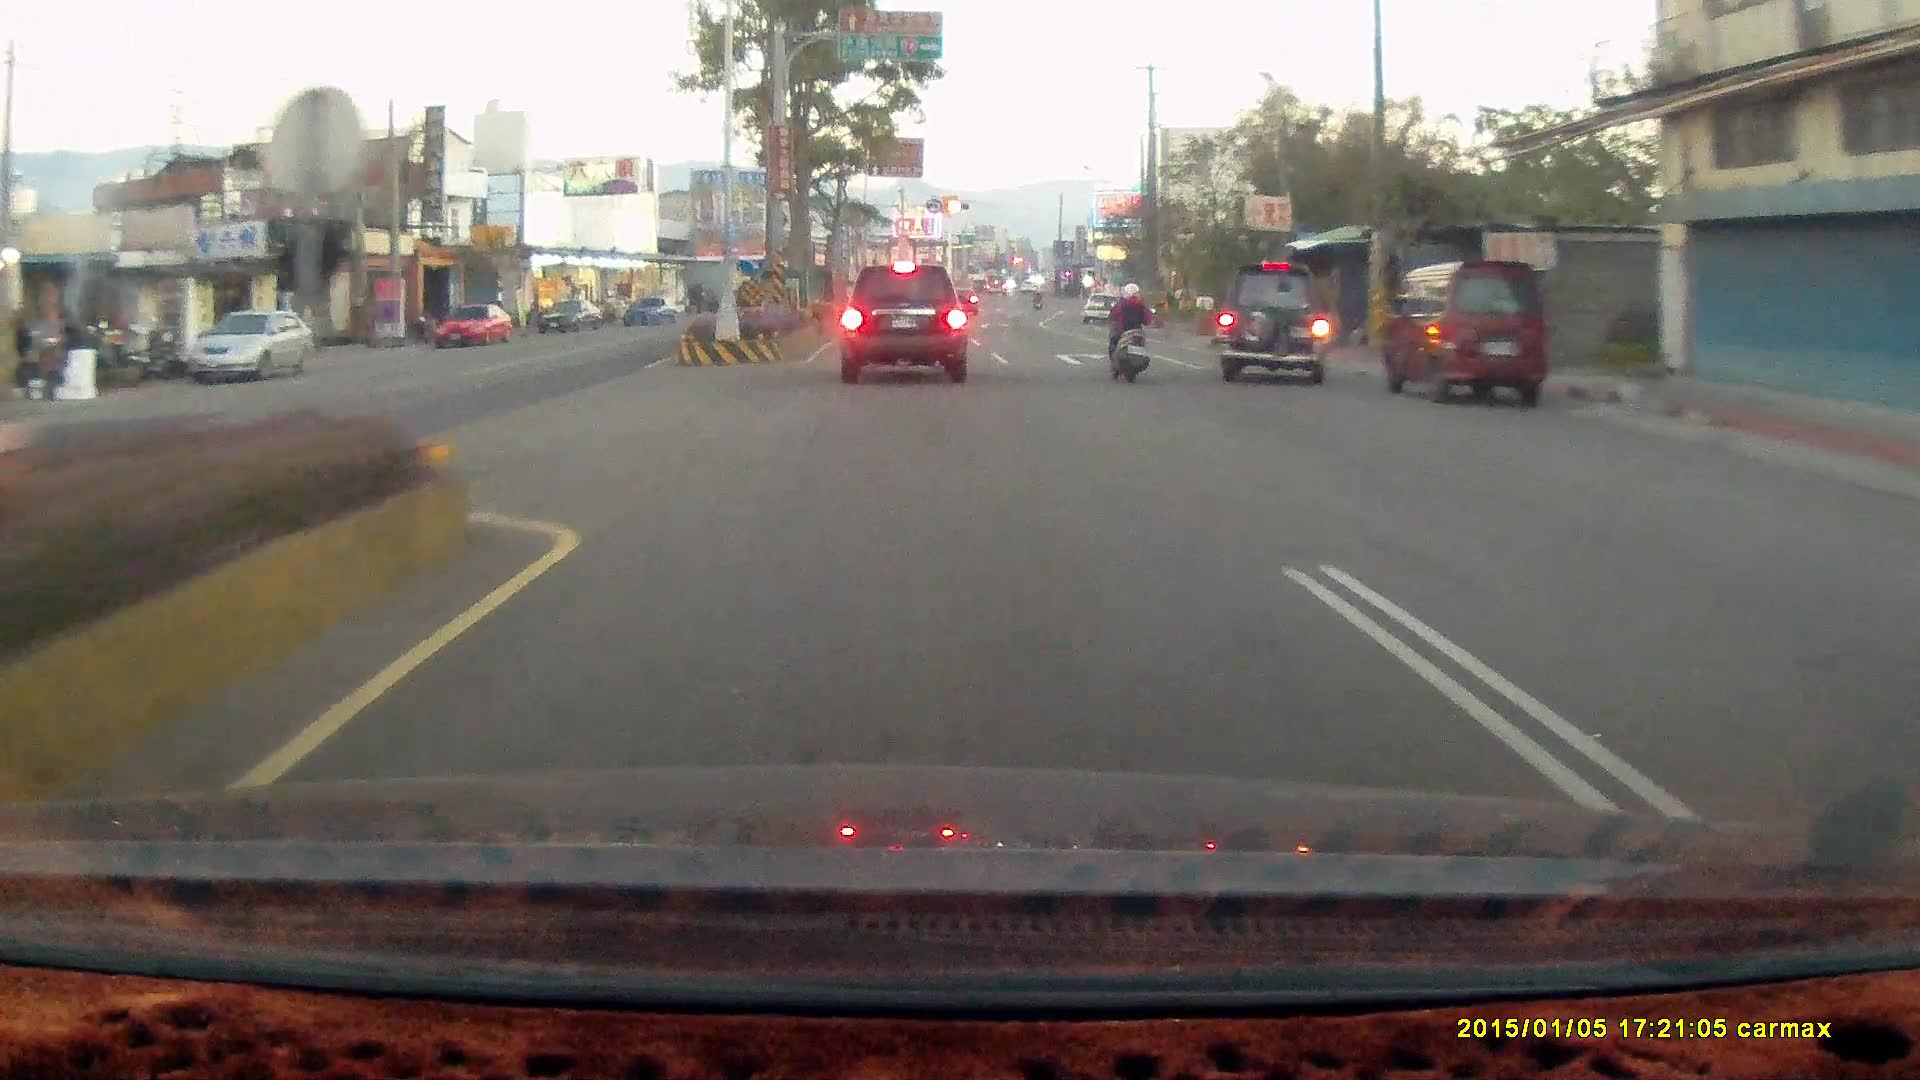pedestrian: (52, 307, 83, 380)
rider: (1105, 280, 1152, 384)
vehicle: (1376, 259, 1550, 407), (1387, 263, 1555, 410), (1214, 267, 1342, 388), (839, 262, 967, 383), (1214, 260, 1333, 382), (185, 309, 315, 388), (185, 309, 315, 384), (1896, 493, 1920, 836), (1883, 528, 1920, 690), (432, 304, 516, 349), (432, 302, 513, 347), (1081, 293, 1124, 324)
